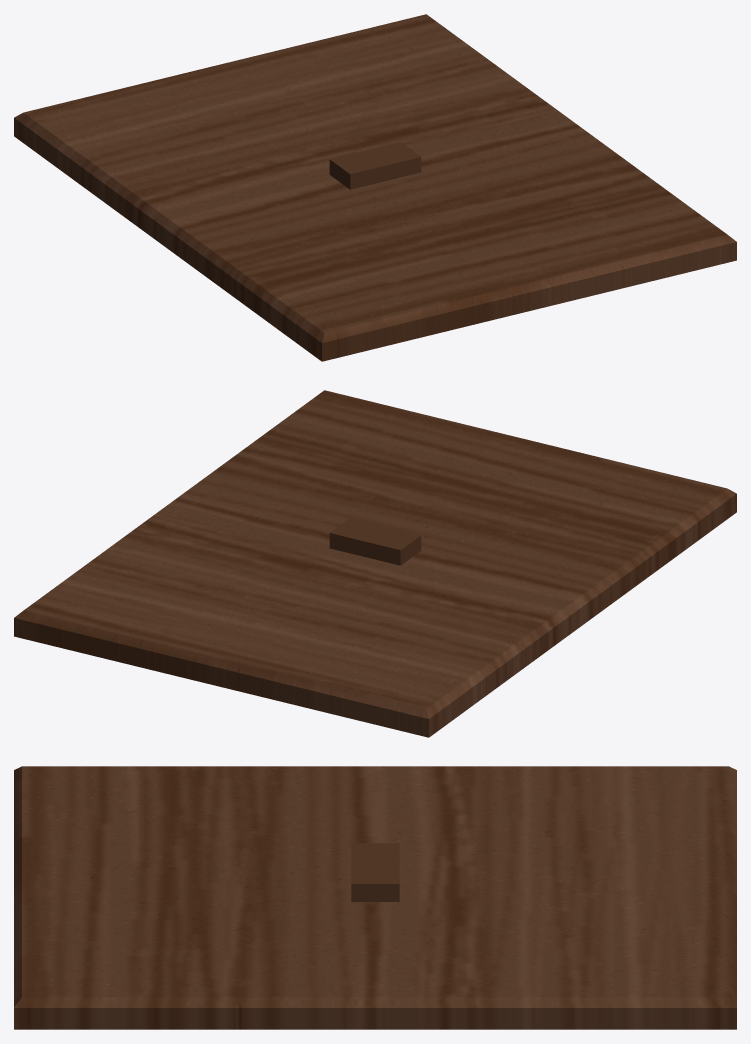
File: lid_3_4.glb
3 renders of one model, top to bottom at view 1: azimuth 30°, elevation 25°; view 2: azimuth 150°, elevation 25°; view 3: azimuth 270°, elevation 25°, orthographic. The views are drawn at different scales.
Visible parts, largest first — view 1: lid_3_4; view 2: lid_3_4; view 3: lid_3_4.
Part boxes in pixels (<box>): lid_3_4: <box>14,14,736,361</box>; lid_3_4: <box>14,390,736,737</box>; lid_3_4: <box>14,766,736,1029</box>.
Size of the model in its own units: 0.14 by 0.013 by 0.18.
Materials: 1 (1 with a texture image).
